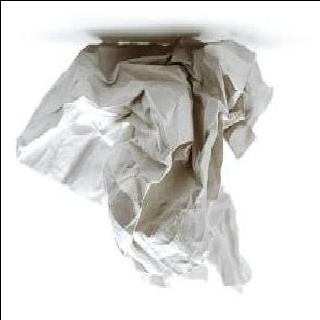8/可回收垃圾/纸: (15, 37, 276, 295)
